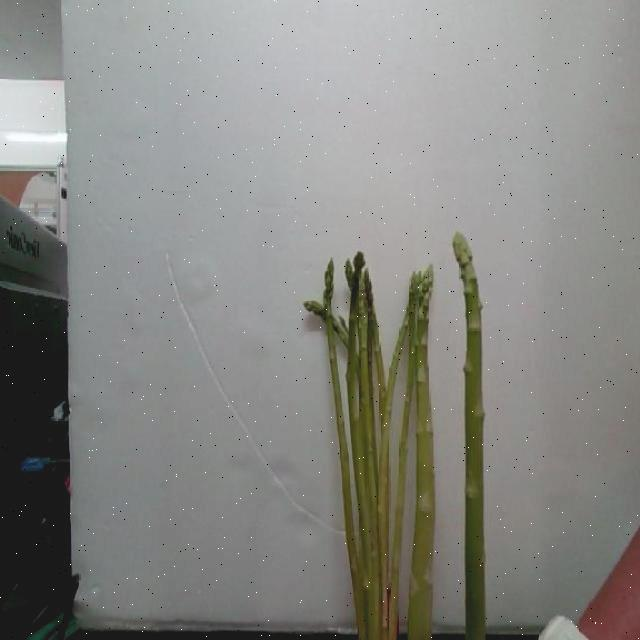aspargus: (452, 234, 487, 640), (411, 262, 435, 640)
